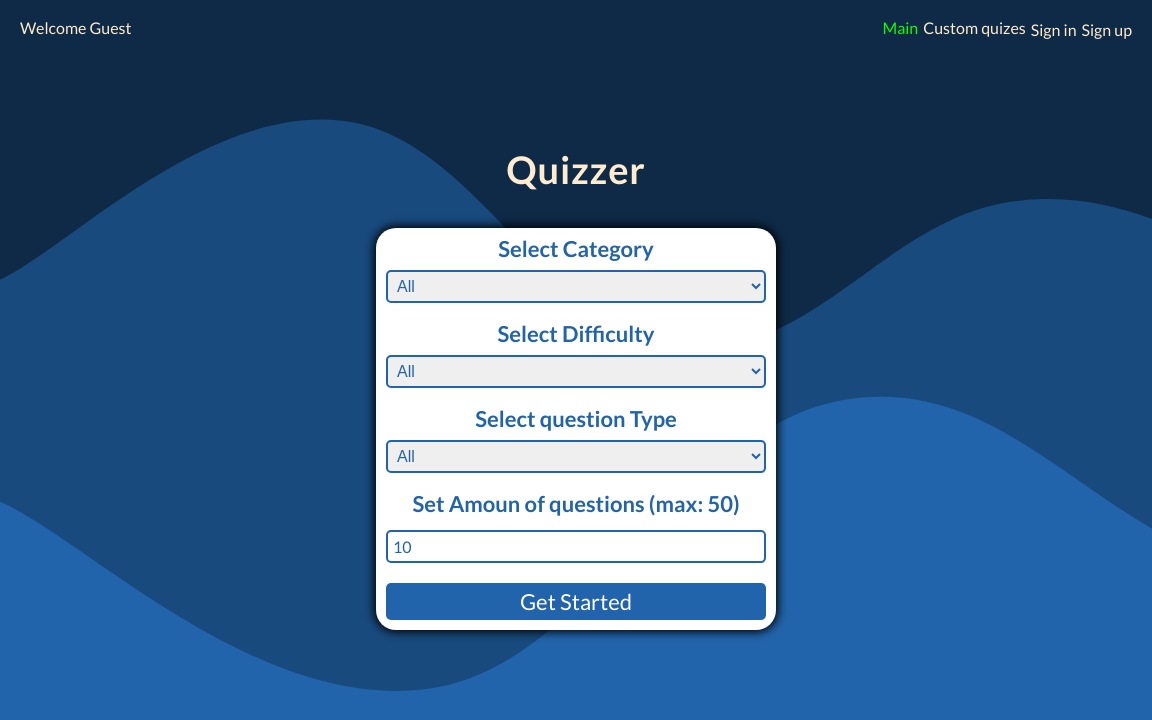
Test: NavBar tests › shoul open sign in modal
Click the button with test id "signin-link" at coordinates (1054, 30), box [1031,20,1076,39]
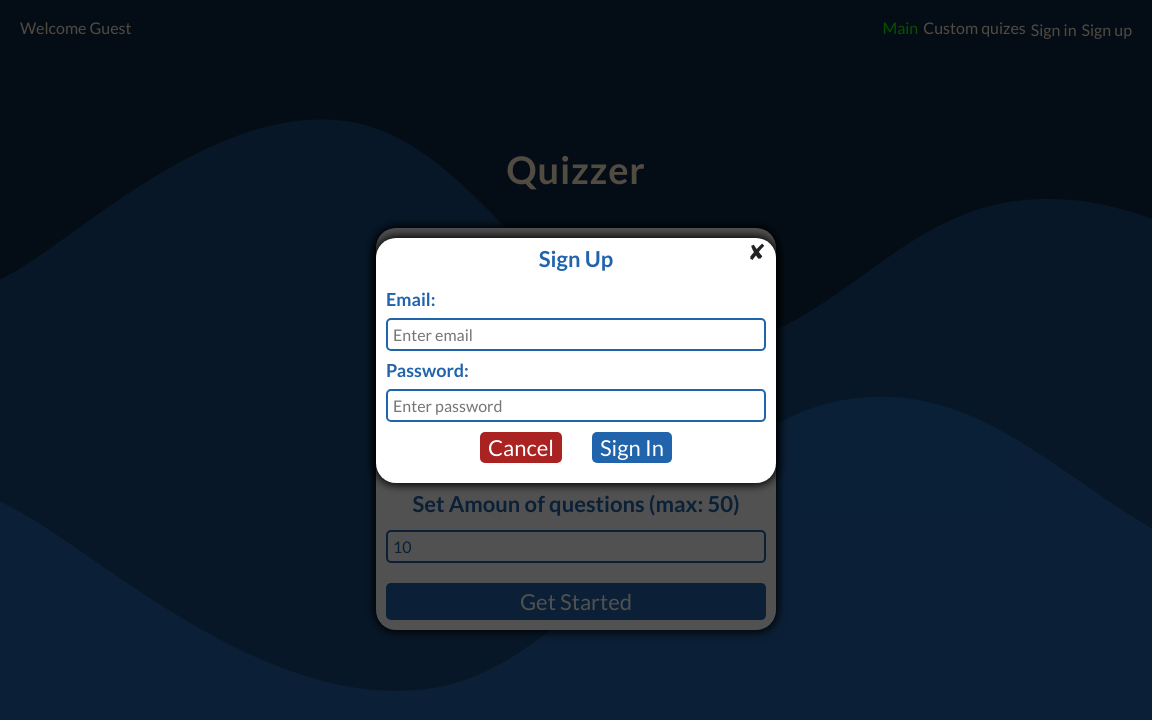
Now the form with test id "sign-in-modal" is shown, box [386,290,766,462]
